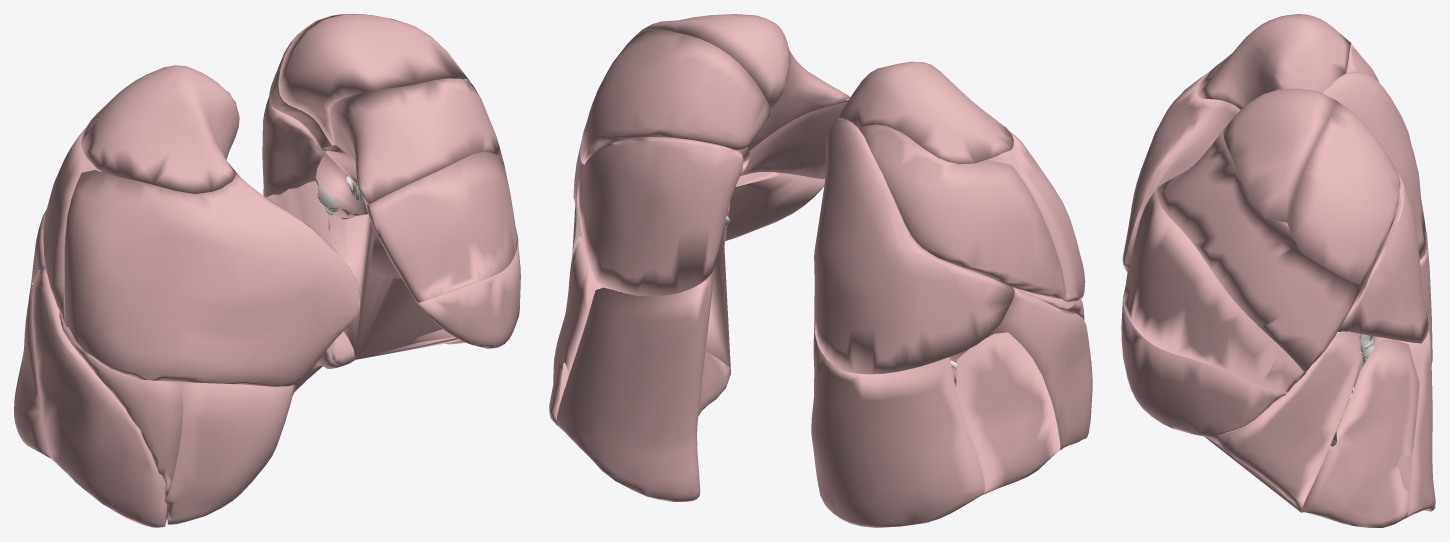
File: 3d-vh-f-lung-40.fbx
3 renders of one model, left to right at view 1: azimuth 30°, elevation 25°; view 2: azimuth 150°, elevation 25°; view 3: azimuth 270°, elevation 25°, orthographic. The views are drawn at different scales.
Parts seen in each view (by area): view 1: VH_F_right_anterior_bronchopulmonary_segm, VH_F_right_anterior_basal_bronchopulmonary_segment, VH_F_lingula_superior_bronchopulmonary_segment, VH_F_right_apical_bronchopulmonary_segment, VH_F_left_anterior_bronchopulmonary_segment, VH_F_left_apical_bronchopulmonary_segment, VH_F_right_medial_bronchopulmonary_segment, VH_F_left_medial_basal_bronchopulmonary_segment, VH_F_lingula_inferior_bronchopulmonary_segment, VH_F_right_lateral_bronchopulmonary_segmennt, VH_F_left_superior_bronchopulmonary_segment, VH_F_right_posterior_bronchopulmonary_segment (+4 smaller); view 2: VH_F_left_posterior_basal_bronchopulmonary_segment, VH_F_right_superior_bronchopulmonary_segment, VH_F_right_posterior_basal_bronchopulmonary_segment, VH_F_left_superior_bronchopulmonary_segment, VH_F_right_posterior_bronchopulmonary_segment, VH_F_left_posterior_bronchopulmonary_segment, VH_F_right_lateral_basal_bronchopulmonary_segment, VH_F_right_apical_bronchopulmonary_segment, VH_F_right_anterior_basal_bronchopulmonary_segment, VH_F_left_apical_bronchopulmonary_segment, VH_F_lingula_superior_bronchopulmonary_segment, VH_F_lingula_inferior_bronchopulmonary_segment (+3 smaller); view 3: VH_F_left_anterior_bronchopulmonary_segment, VH_F_lingula_superior_bronchopulmonary_segment, VH_F_left_lateral_basal_bronchopulmonary_segment, VH_F_left_posterior_bronchopulmonary_segment, VH_F_left_anterior_basal_bronchopulmonary_segment, VH_F_lingula_inferior_bronchopulmonary_segment, VH_F_left_apical_bronchopulmonary_segment, VH_F_right_apical_bronchopulmonary_segment, VH_F_left_superior_bronchopulmonary_segment, VH_F_right_anterior_bronchopulmonary_segm, VH_F_right_superior_bronchopulmonary_segment, VH_F_left_posterior_basal_bronchopulmonary_segment (+2 smaller).
Part boxes in pixels (x1,y1,x2,y2): VH_F_right_anterior_bronchopulmonary_segm: (64,170,359,387); VH_F_right_anterior_basal_bronchopulmonary_segment: (31,266,167,527); VH_F_lingula_superior_bronchopulmonary_segment: (365,152,518,302); VH_F_right_apical_bronchopulmonary_segment: (81,65,239,193); VH_F_left_anterior_bronchopulmonary_segment: (329,78,503,204); VH_F_left_apical_bronchopulmonary_segment: (278,14,470,145); VH_F_right_medial_bronchopulmonary_segment: (164,382,293,524); VH_F_left_medial_basal_bronchopulmonary_segment: (328,213,460,365); VH_F_lingula_inferior_bronchopulmonary_segment: (417,242,520,348); VH_F_right_lateral_bronchopulmonary_segmennt: (59,311,183,499); VH_F_left_superior_bronchopulmonary_segment: (262,96,325,197); VH_F_right_posterior_bronchopulmonary_segment: (43,106,104,326); VH_F_left_posterior_basal_bronchopulmonary_segment: (556,229,730,501); VH_F_right_superior_bronchopulmonary_segment: (814,118,1014,374); VH_F_right_posterior_basal_bronchopulmonary_segment: (811,322,984,527); VH_F_left_superior_bronchopulmonary_segment: (577,137,743,296); VH_F_right_posterior_bronchopulmonary_segment: (859,124,1065,298); VH_F_left_posterior_bronchopulmonary_segment: (580,29,770,164); VH_F_right_lateral_basal_bronchopulmonary_segment: (905,332,1060,495); VH_F_right_apical_bronchopulmonary_segment: (838,61,1013,164); VH_F_right_anterior_basal_bronchopulmonary_segment: (950,288,1092,450); VH_F_left_apical_bronchopulmonary_segment: (635,14,789,114); VH_F_lingula_superior_bronchopulmonary_segment: (740,96,849,178); VH_F_lingula_inferior_bronchopulmonary_segment: (725,172,824,240); VH_F_left_anterior_bronchopulmonary_segment: (1157,129,1364,372); VH_F_lingula_superior_bronchopulmonary_segment: (1123,188,1305,393); VH_F_left_lateral_basal_bronchopulmonary_segment: (1301,339,1419,527); VH_F_left_posterior_bronchopulmonary_segment: (1287,100,1399,284); VH_F_left_anterior_basal_bronchopulmonary_segment: (1204,331,1361,512); VH_F_lingula_inferior_bronchopulmonary_segment: (1121,300,1285,436); VH_F_left_apical_bronchopulmonary_segment: (1223,88,1336,222); VH_F_right_apical_bronchopulmonary_segment: (1197,14,1350,109); VH_F_left_superior_bronchopulmonary_segment: (1337,174,1428,343); VH_F_right_anterior_bronchopulmonary_segm: (1122,63,1240,273); VH_F_right_superior_bronchopulmonary_segment: (1321,71,1427,259); VH_F_left_posterior_basal_bronchopulmonary_segment: (1330,329,1435,517).
Bounding box in the file's own units: 25.12 × 22.31 × 15.26.
